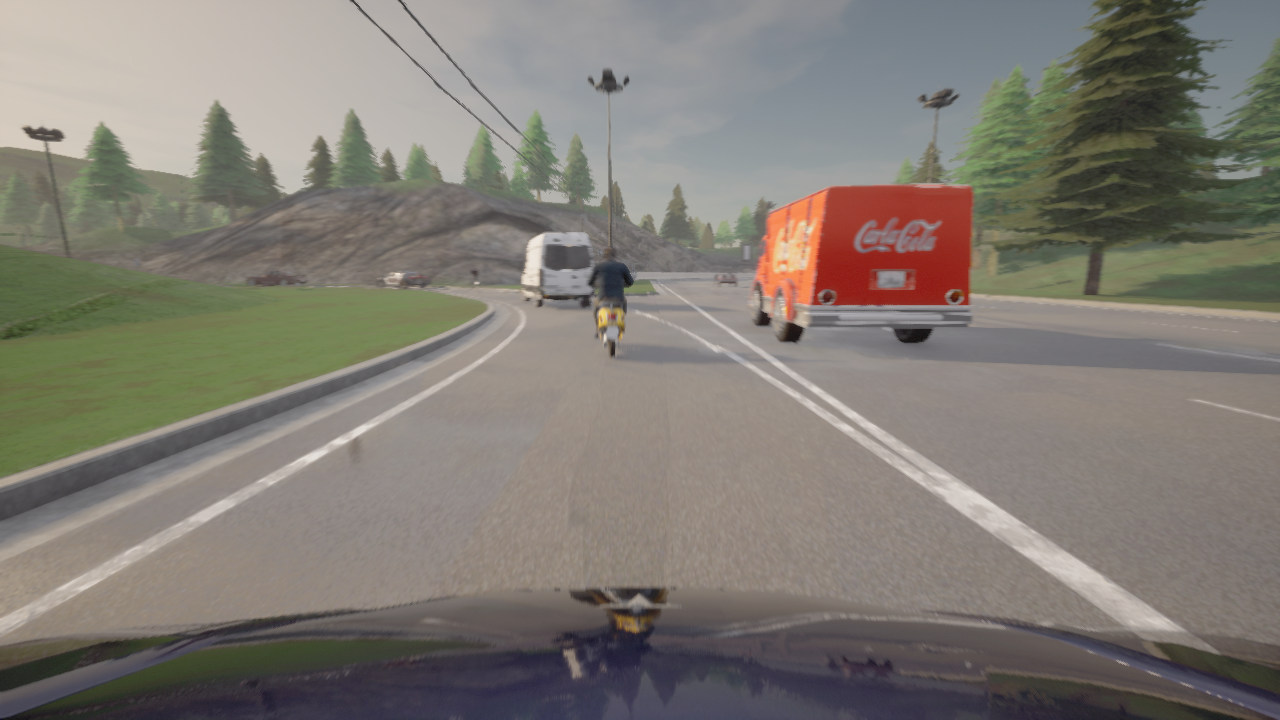cyclist: (0, 588, 1279, 719), (742, 185, 973, 343), (518, 233, 594, 307), (582, 271, 635, 357), (376, 269, 429, 288), (246, 270, 307, 286), (712, 269, 737, 287), (472, 280, 478, 292)
